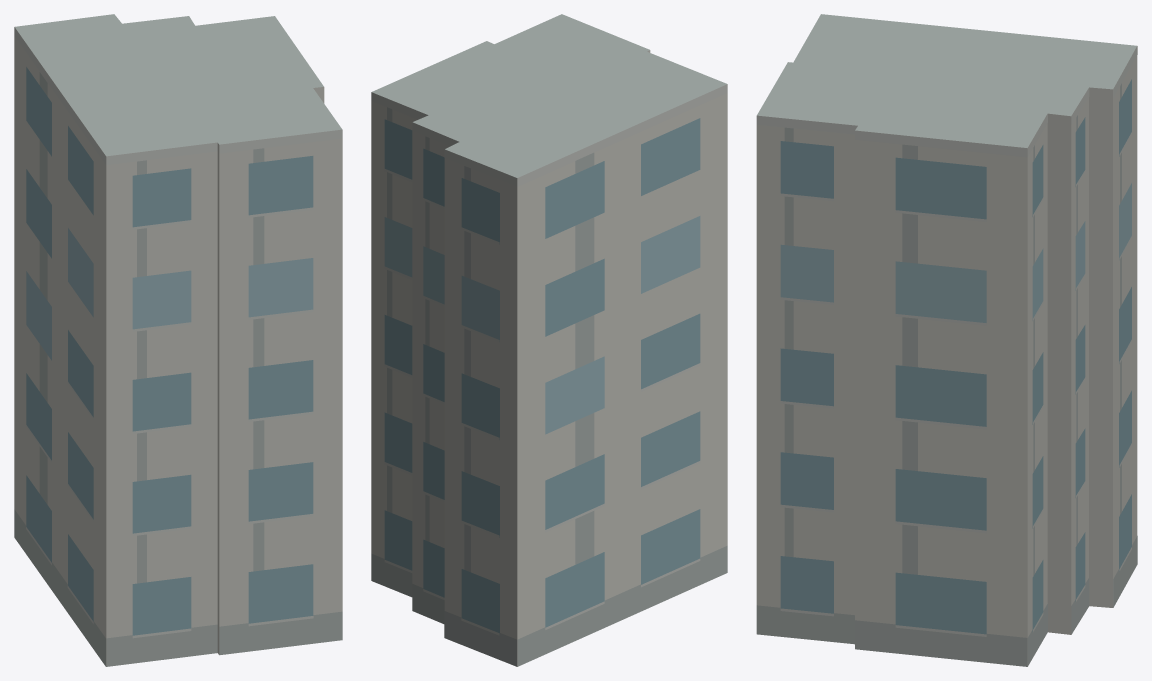
File: survey-upis-32724565.glb
3 renders of one model, left to right at view 1: azimuth 30°, elevation 25°; view 2: azimuth 150°, elevation 25°; view 3: azimuth 270°, elevation 25°, orthographic. The views are drawn at different scales.
Visible parts, largest first — view 1: survey-upis-32724565.tmp; view 2: survey-upis-32724565.tmp; view 3: survey-upis-32724565.tmp.
Boxes of the visible parts, x1=… form: survey-upis-32724565.tmp: x1=14, y1=14, x2=342, y2=666; survey-upis-32724565.tmp: x1=371, y1=14, x2=727, y2=666; survey-upis-32724565.tmp: x1=756, y1=14, x2=1137, y2=666.
Size of the model in its own units: 7.61 by 13.7 by 9.12.
